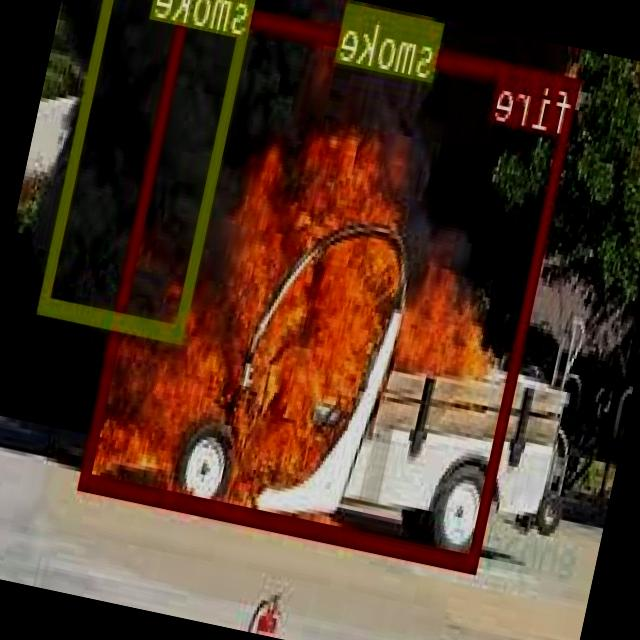fire: (80, 0, 582, 571)
smoke: (39, 0, 262, 338), (366, 4, 446, 57)
